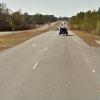Car: (55, 21, 72, 35)
